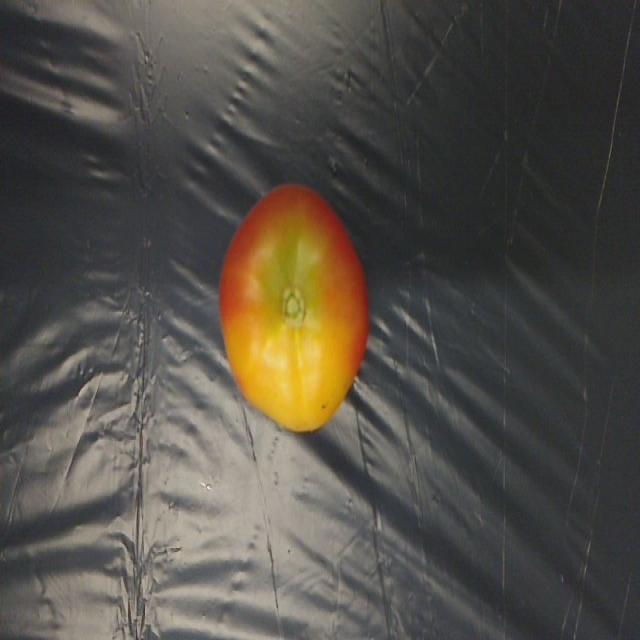sari: (206, 179, 376, 444)
